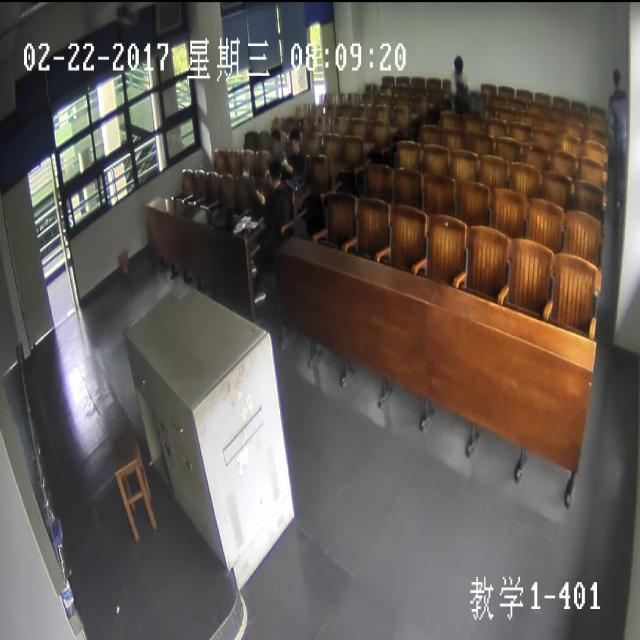person: (266, 155, 281, 186), (450, 51, 464, 78), (268, 127, 281, 149), (288, 128, 301, 150), (612, 64, 620, 91)
